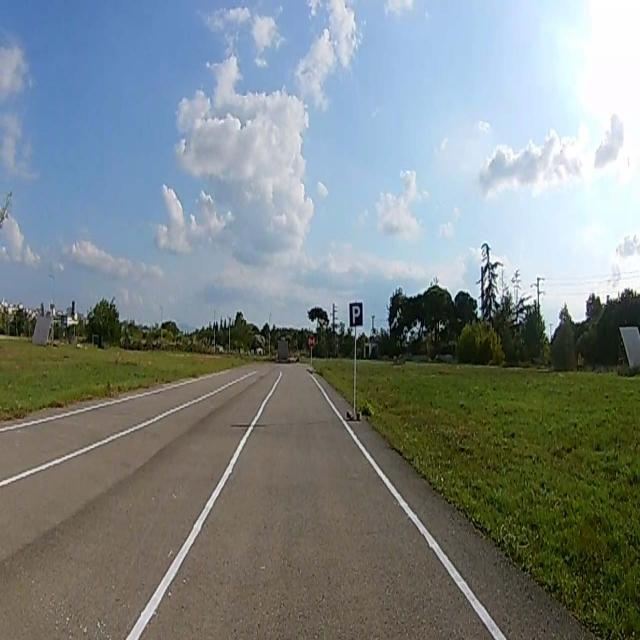park: (350, 303, 362, 326)
